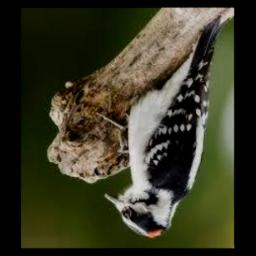Woodpecker: (95, 16, 229, 239)
